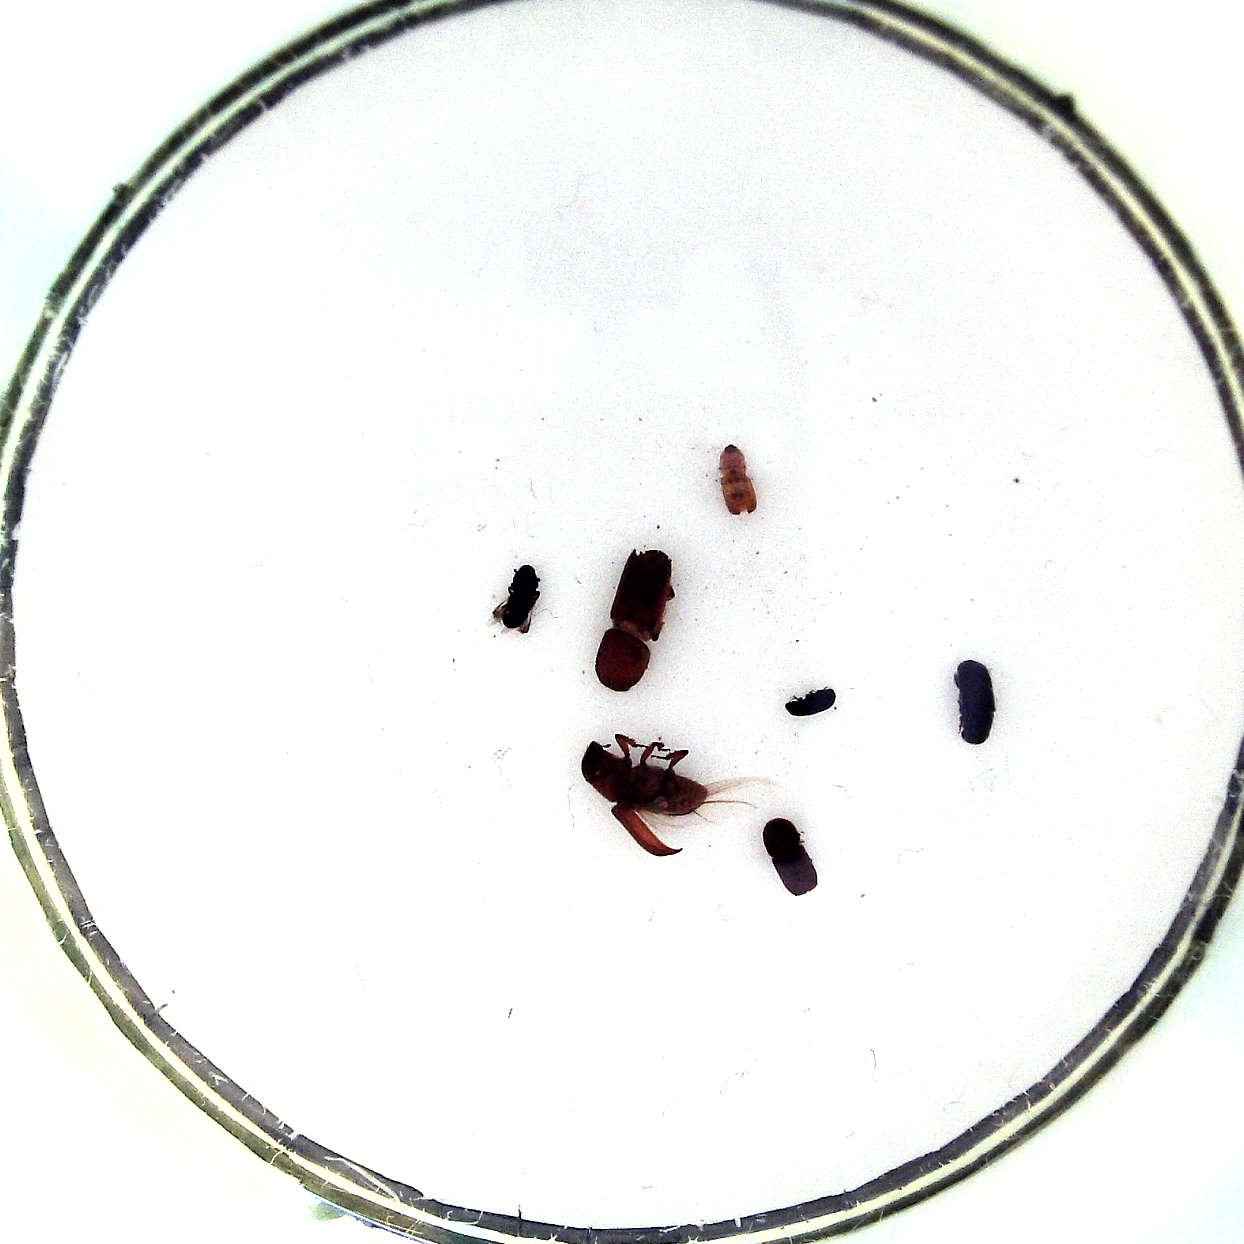Boerner: (590, 538, 680, 697)
Leconte: (572, 727, 783, 858)
Linnaeus: (758, 810, 826, 902)
acuminatus: (711, 440, 768, 519)
armandi: (950, 654, 1002, 746)
coleoptera: (477, 557, 545, 636), (778, 676, 842, 723)
